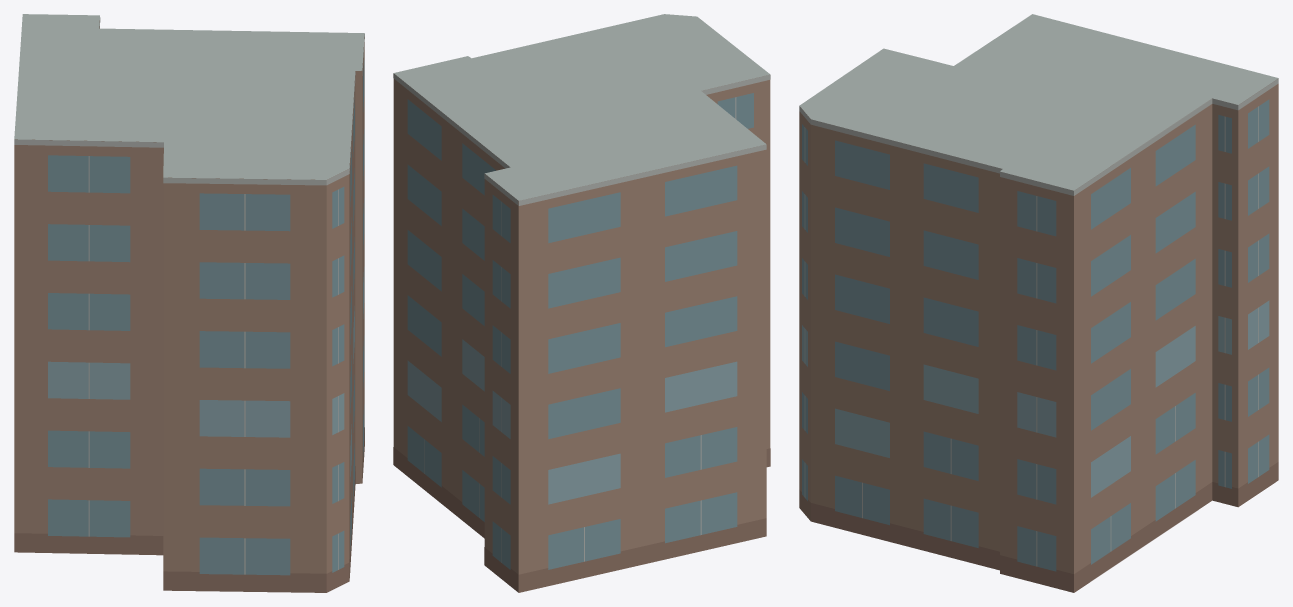
File: survey-upis-32667687.glb
3 renders of one model, left to right at view 1: azimuth 30°, elevation 25°; view 2: azimuth 150°, elevation 25°; view 3: azimuth 270°, elevation 25°, orthographic. The views are drawn at different scales.
Parts seen in each view (by area): view 1: survey-upis-32667687.tmp; view 2: survey-upis-32667687.tmp; view 3: survey-upis-32667687.tmp.
Boxes of the visible parts, x1,y1,x2,y2 form: survey-upis-32667687.tmp: [14, 14, 364, 592]; survey-upis-32667687.tmp: [393, 14, 770, 592]; survey-upis-32667687.tmp: [799, 14, 1278, 592].
Size of the model in its own units: 17.25 by 18.3 by 19.77.
